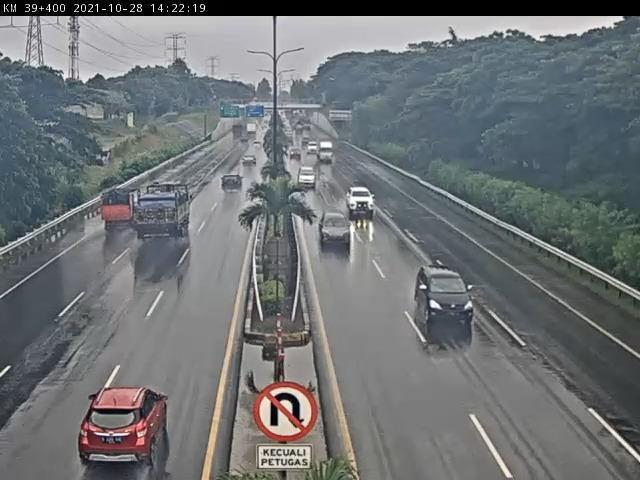car: (76, 384, 171, 467), (414, 264, 476, 326), (319, 211, 353, 248), (346, 187, 377, 215), (298, 166, 317, 189), (222, 174, 245, 193), (241, 154, 258, 170)
truck: (133, 185, 194, 239), (100, 188, 142, 226)
